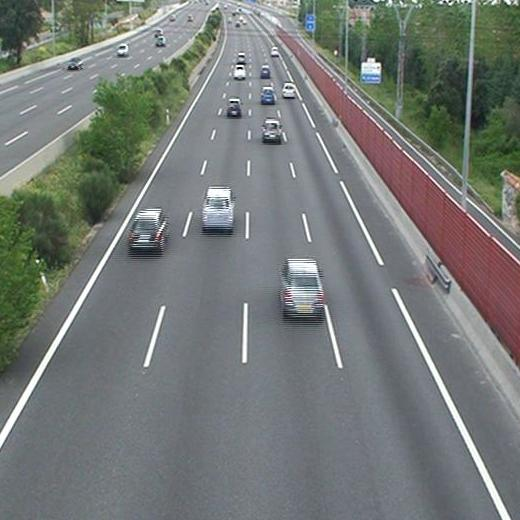car: (279, 259, 323, 316), (129, 209, 166, 247), (203, 187, 234, 229), (262, 119, 282, 140), (226, 99, 242, 116), (261, 87, 274, 103), (282, 83, 295, 97), (233, 66, 245, 78), (259, 66, 270, 77), (270, 46, 279, 56), (236, 53, 245, 63)
